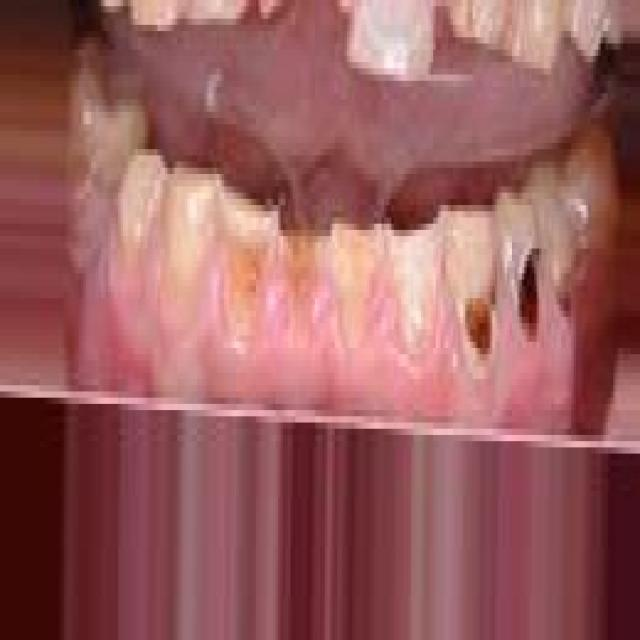caries: (215, 185, 275, 349), (277, 210, 333, 352), (332, 211, 385, 349), (451, 253, 500, 389), (499, 211, 547, 349), (549, 208, 593, 340)
